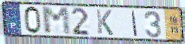0: (23, 5, 42, 35)
2: (70, 7, 93, 37)
3: (144, 10, 162, 38)
I: (131, 9, 139, 37)
K: (94, 8, 115, 37)
M: (40, 7, 73, 36)
